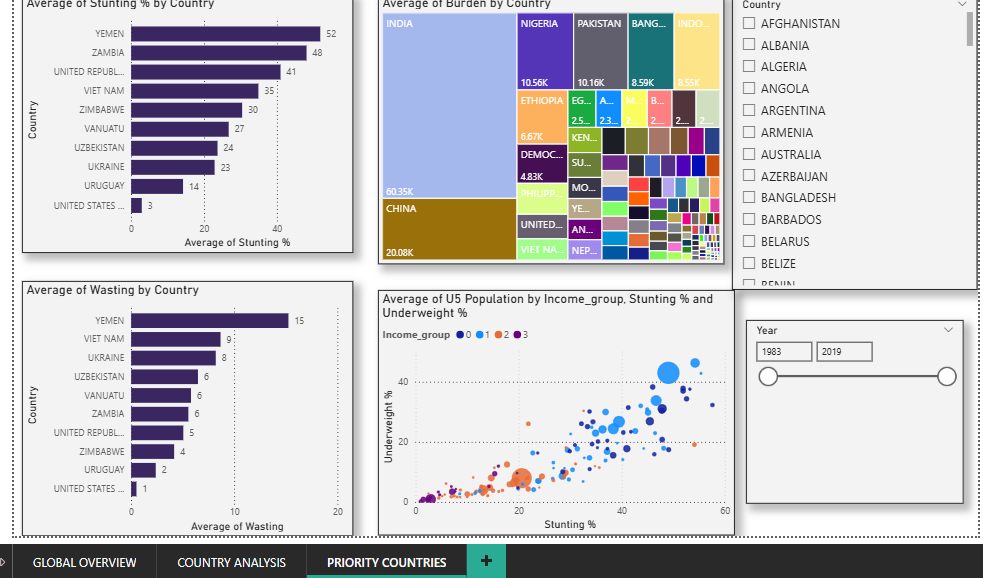

The page's visual inventory and layout, read from the dashboard file:
{"tool":"powerbi","page":{"name":"PRIORITY COUNTRIES","canvas":[1280,720],"ordinal":2},"visuals":[{"type":"barChart","fields":{"Category":["country-wise-average.Country"],"Y":["Avg(country-wise-average.Stunting %)"]},"box":[10.1,0,440.1,344.4],"z":0},{"type":"barChart","fields":{"Category":["country-wise-average.Country"],"Y":["Avg(country-wise-average.Wasting)"]},"box":[10.1,381.3,440.1,339.3],"z":1},{"type":"treemap","fields":{"Group":["country-wise-average.Country"],"Values":["Avg(country-wise-average.Burden)"]},"box":[483.8,0,460.3,359.5],"z":2},{"type":"scatterChart","fields":{"X":["country-wise-average.Stunting %"],"Y":["country-wise-average.Underweight %"],"Size":["Avg(country-wise-average.U5 Population)"],"Series":["country-wise-average.Income_group"]},"box":[483.8,393.1,473.7,325.9],"z":3},{"type":"slicer","fields":{"Values":["country-wise-average.Country"]},"box":[954.1,0,325.9,393.1],"z":4},{"type":"slicer","fields":{"Values":["malnutrition-estimates.Year"]},"box":[972.6,433.4,288.9,243.6],"z":5}]}

Visuals, with their boxes in screenshot pixels (x1, y1, x2, y2):
barChart - country-wise-average.Country x Avg(country-wise-average.Stunting %): {"x1": 18, "y1": 0, "x2": 351, "y2": 256}
barChart - country-wise-average.Country x Avg(country-wise-average.Wasting): {"x1": 18, "y1": 284, "x2": 351, "y2": 541}
treemap - country-wise-average.Country x Avg(country-wise-average.Burden): {"x1": 377, "y1": 0, "x2": 725, "y2": 267}
scatterChart - country-wise-average.Stunting % x country-wise-average.Underweight %: {"x1": 377, "y1": 293, "x2": 735, "y2": 539}
slicer - country-wise-average.Country: {"x1": 733, "y1": 0, "x2": 980, "y2": 293}
slicer - malnutrition-estimates.Year: {"x1": 747, "y1": 323, "x2": 966, "y2": 508}
